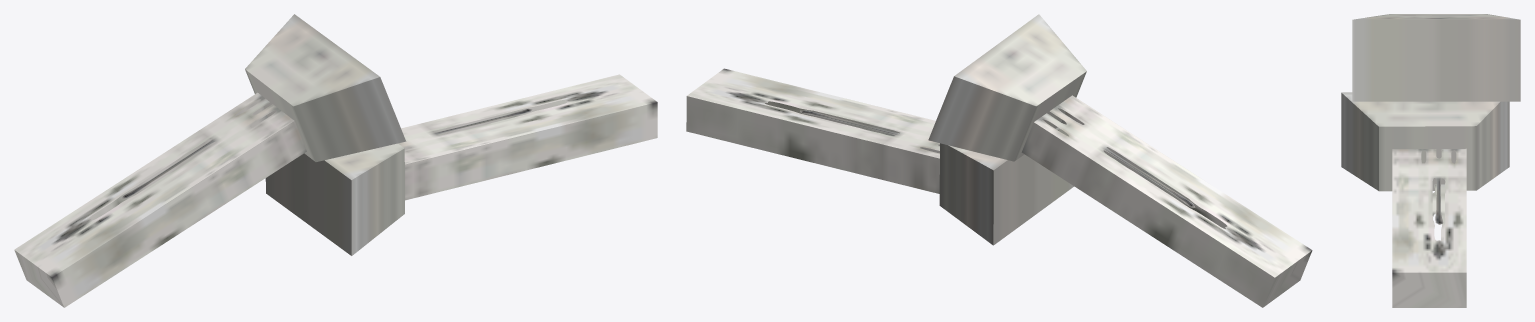
File: poi_r5_leg_l3.fbx
The picture shows the model from 3 angles, left to right: view 1: azimuth 30°, elevation 25°; view 2: azimuth 150°, elevation 25°; view 3: azimuth 270°, elevation 25°; orthographic projection. The views are drawn at different scales.
Visible parts, largest first — view 1: mesh_node; view 2: mesh_node; view 3: mesh_node.
Boxes of the visible parts, left/top/right/bottom form: mesh_node: left=14, top=14, right=657, bottom=307; mesh_node: left=686, top=14, right=1312, bottom=307; mesh_node: left=1341, top=14, right=1520, bottom=307.
Bounding box in the file's own units: 1.46 × 0.4171 × 0.3858.
Materials: 1 (1 with a texture image).
